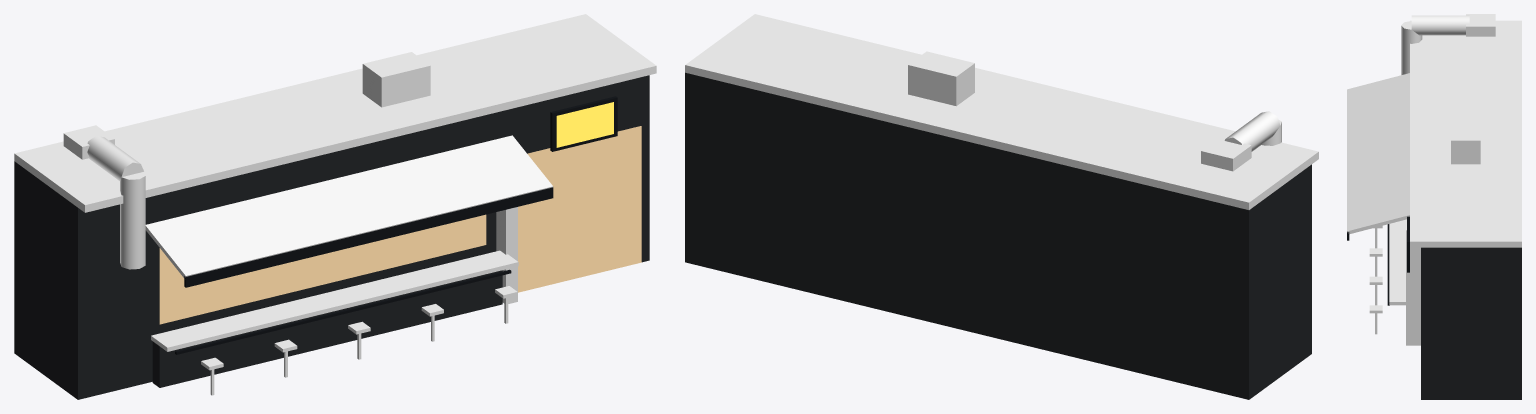
File: shop_counter.gltf
3 views of the same model, side by side, from view 1: azimuth 30°, elevation 25°; view 2: azimuth 150°, elevation 25°; view 3: azimuth 270°, elevation 25° (orthographic). The views are drawn at different scales.
Parts seen in each view (by area): view 1: graphite, steel, shopwall, olive, titanium, dark, glow_amber, detail_dark, detail_olive, detail_steel; view 2: graphite, steel, titanium; view 3: steel, graphite, olive, titanium, detail_olive, detail_steel, detail_dark, dark.
Boxes of the visible parts, x1,y1,x2,y2 form: graphite: (14,75,649,399); steel: (14,14,656,351); shopwall: (159,126,641,324); olive: (145,135,553,277); titanium: (87,52,430,269); dark: (184,96,617,287); glow_amber: (556,102,613,147); detail_dark: (175,269,511,354); detail_olive: (201,286,517,370); detail_steel: (210,297,508,395); graphite: (685,72,1311,399); steel: (685,14,1318,209); titanium: (908,51,1281,151); steel: (1389,14,1521,345); graphite: (1421,247,1521,399); olive: (1347,73,1409,234); titanium: (1401,15,1480,164); detail_olive: (1369,225,1382,313); detail_steel: (1375,228,1377,334); detail_dark: (1387,224,1389,305); dark: (1347,216,1409,272).
Size of the model in its own units: 14 by 5.38 by 4.68.
